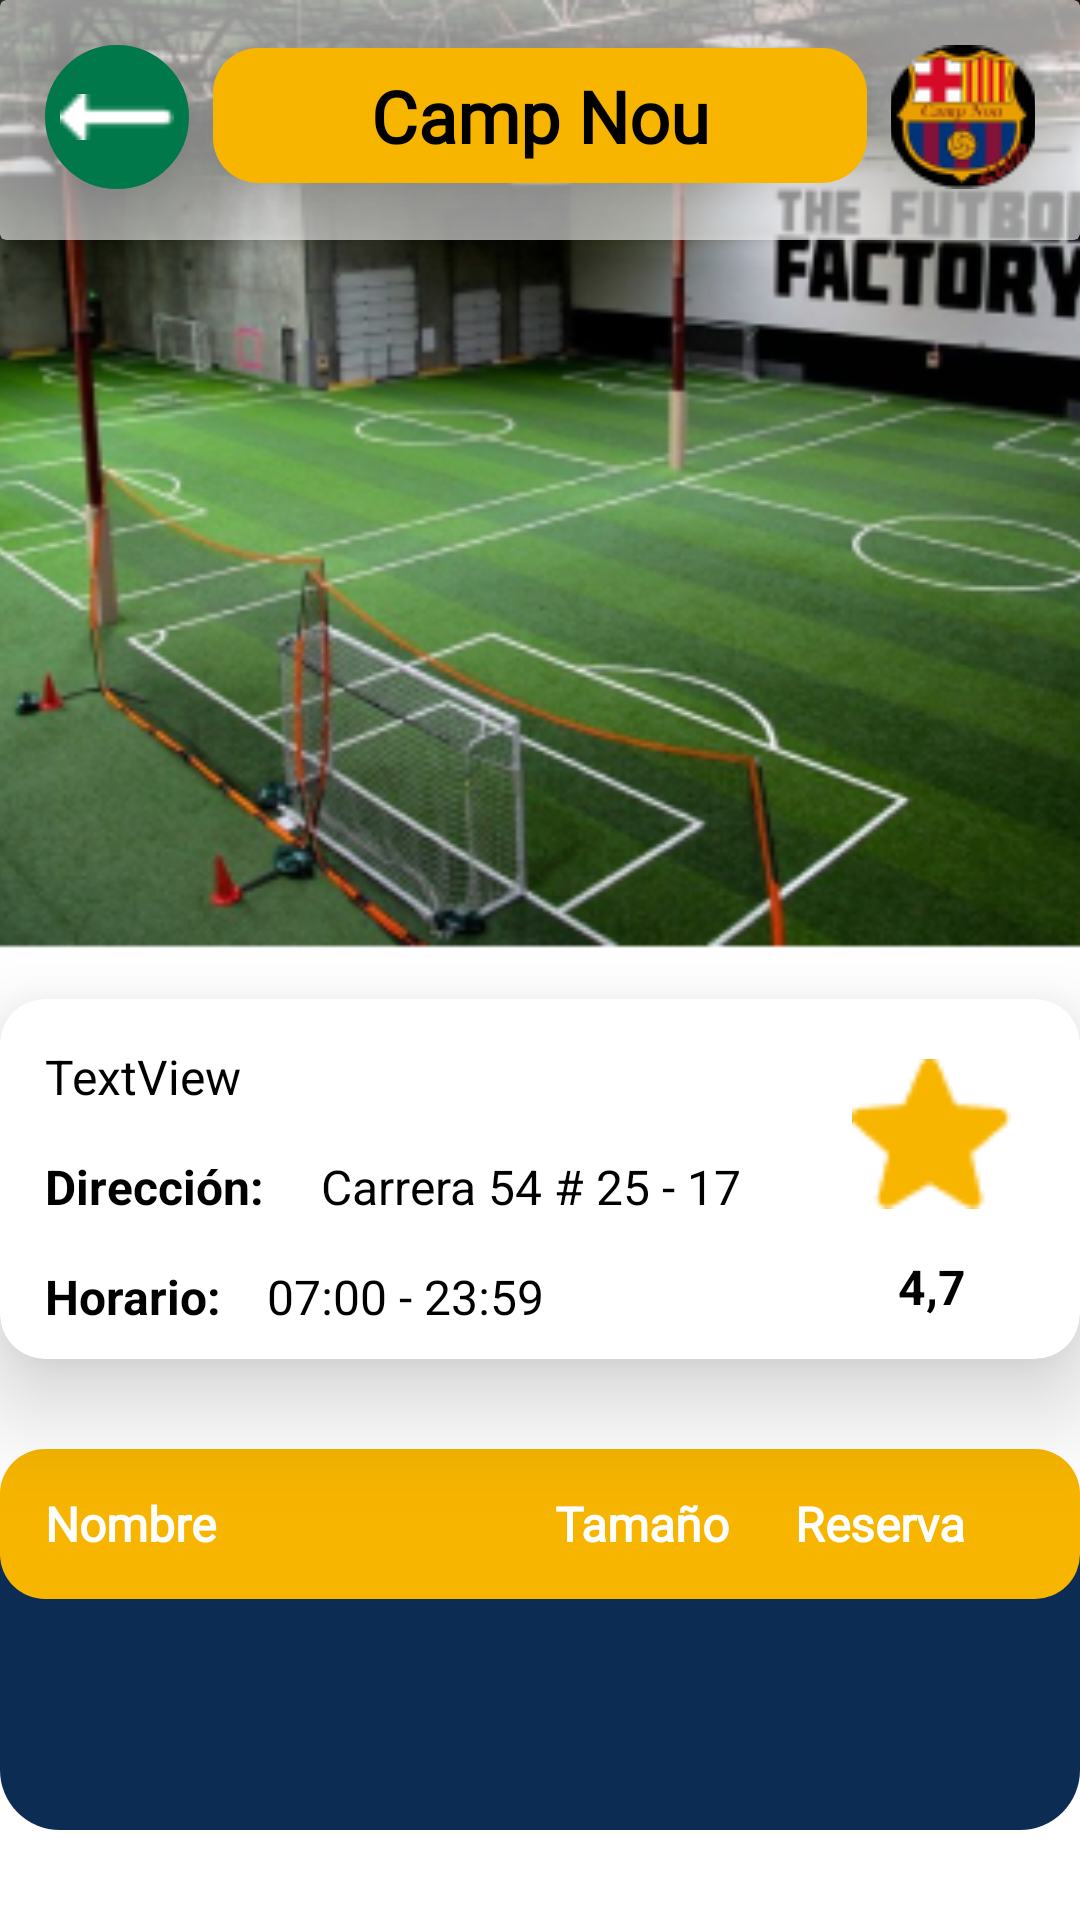

Icon bounding boxes for this 1080w x 1920h phone screenshot, format (x1=x1, y1=y1, x2=x2, y2=y2):
estrella: (x1=852, y1=1059, x2=1011, y2=1209)
